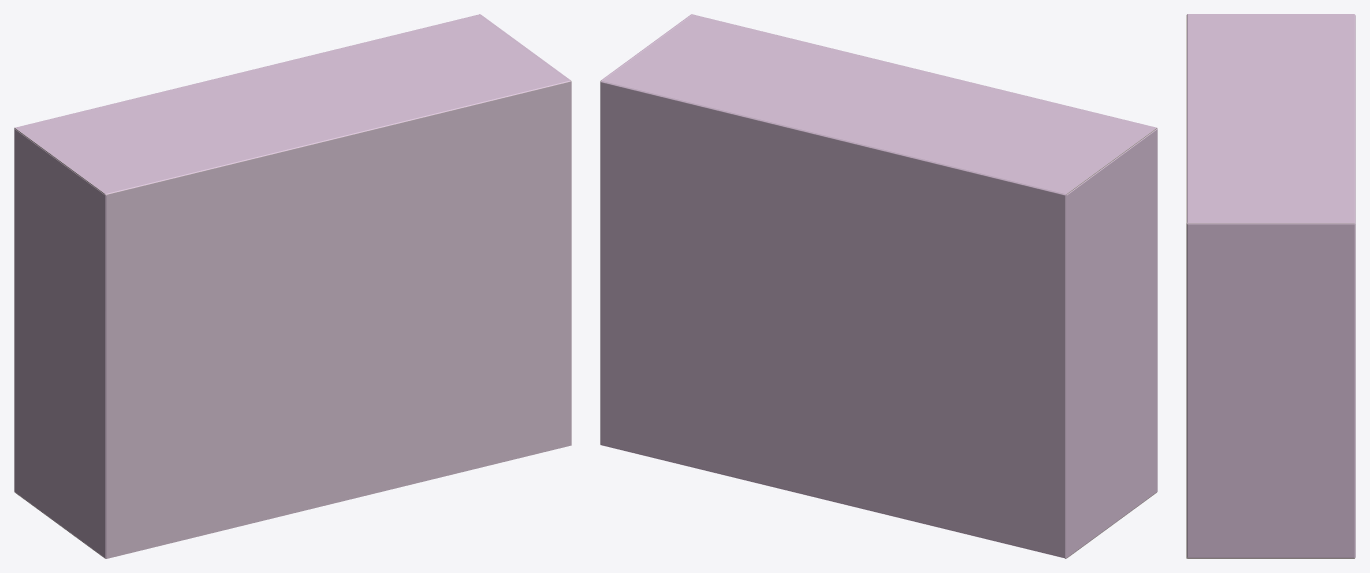
File: chipsahoy100cal_2.dae
3 renders of one model, left to right at view 1: azimuth 30°, elevation 25°; view 2: azimuth 150°, elevation 25°; view 3: azimuth 270°, elevation 25°, orthographic. The views are drawn at different scales.
Parts seen in each view (by area): view 1: skpHq245j (×4); view 2: skpHq245j (×3); view 3: skpHq245j (×4).
Boxes of the visible parts, x1,y1,x2,y2 form: skpHq245j (×4): (14, 14, 571, 558); skpHq245j (×3): (600, 14, 1157, 558); skpHq245j (×4): (1186, 14, 1355, 558).
Size of the model in its own units: 7.51 by 2.56 by 5.62.
